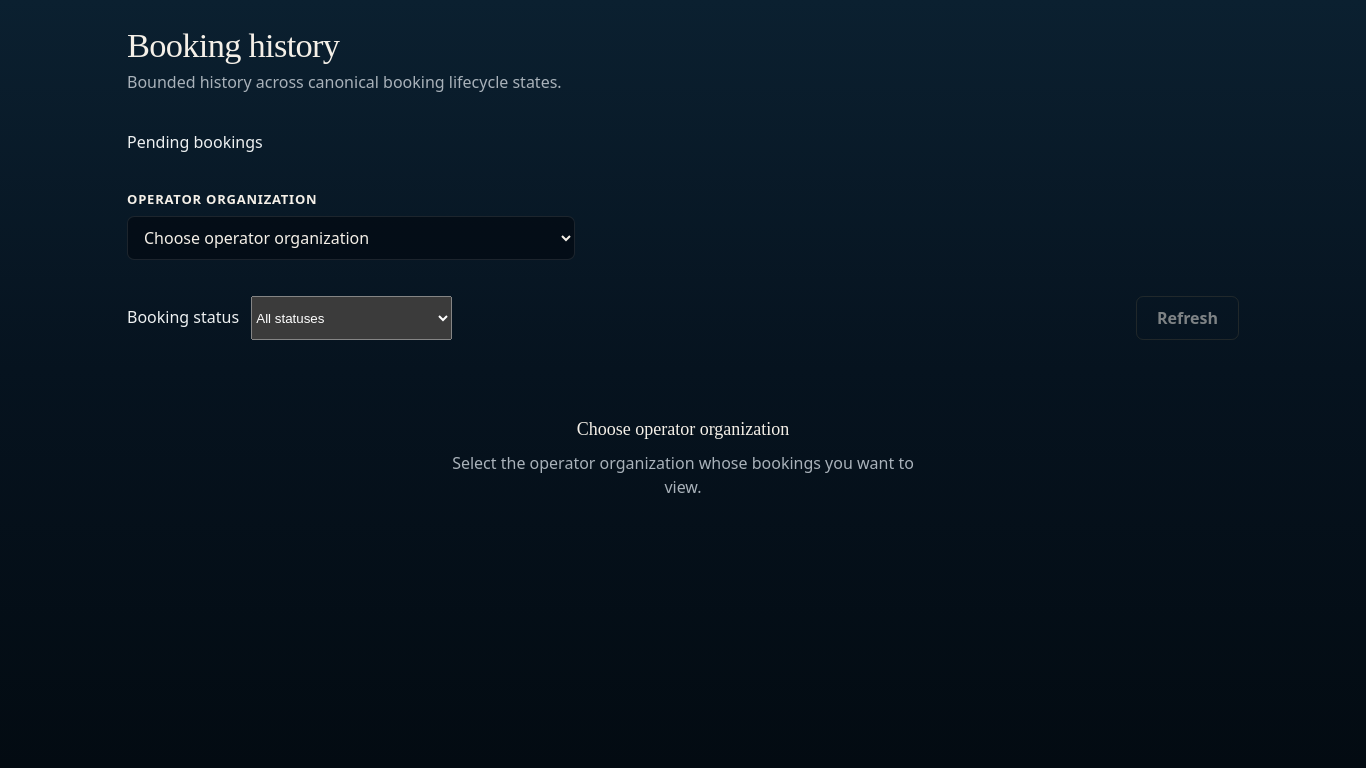
it: OperatorBookingHistory › keeps only the latest epoch across rapid A to B to A to B resolution
Select "Operator organization 1 — OPERATOR_ADMIN" in the dropdown labelled "Operator organization" at (351, 238), box [127, 216, 575, 260]
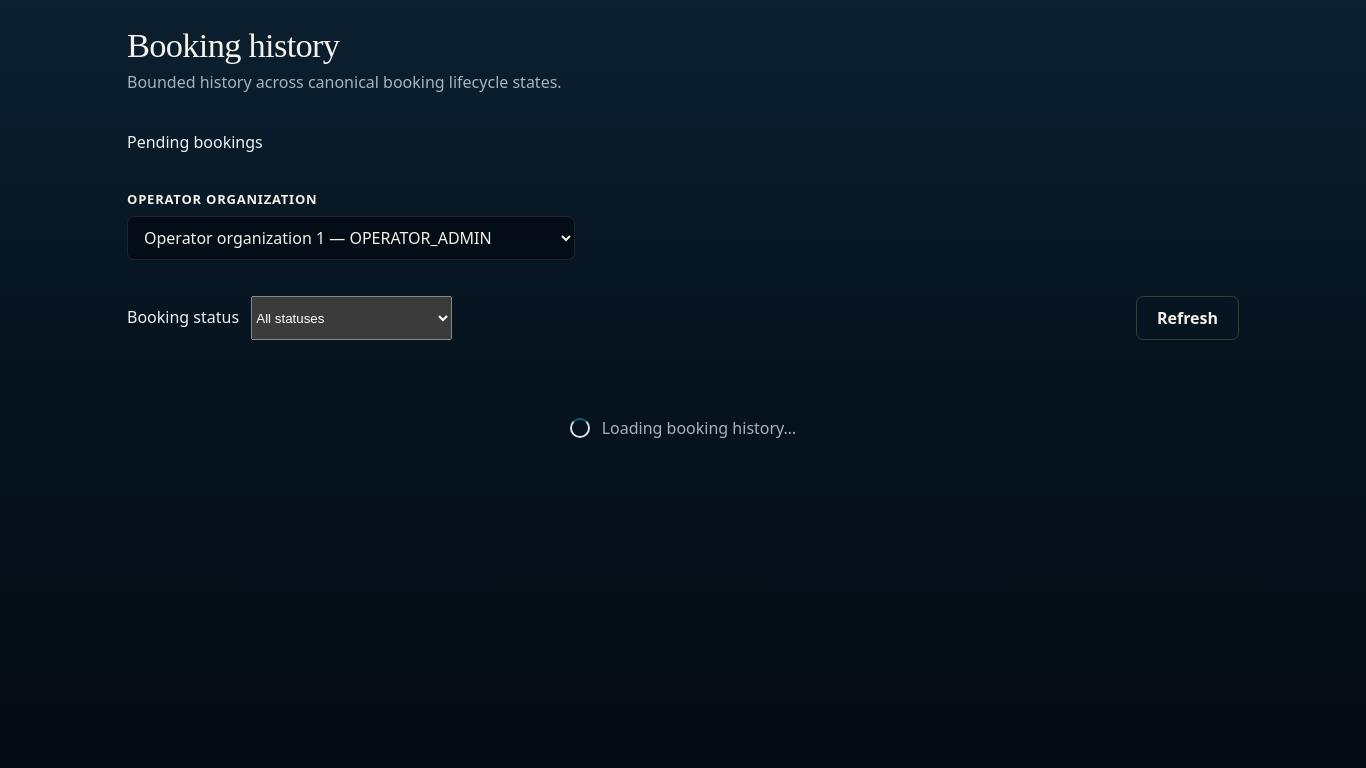
Select "Operator organization 2 — OPERATOR_SALES" in the dropdown labelled "Operator organization" at (351, 238), box [127, 216, 575, 260]
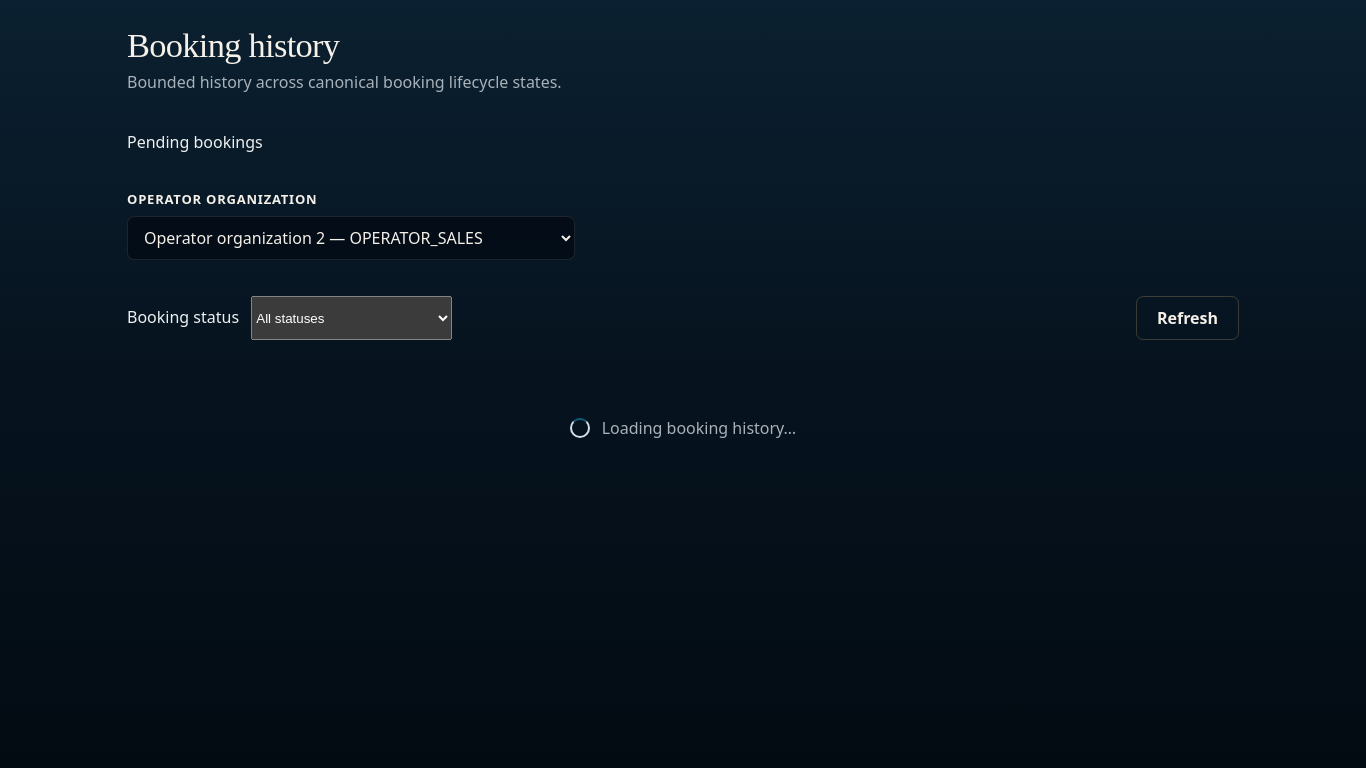
Select "Operator organization 1 — OPERATOR_ADMIN" in the dropdown labelled "Operator organization" at (351, 238), box [127, 216, 575, 260]
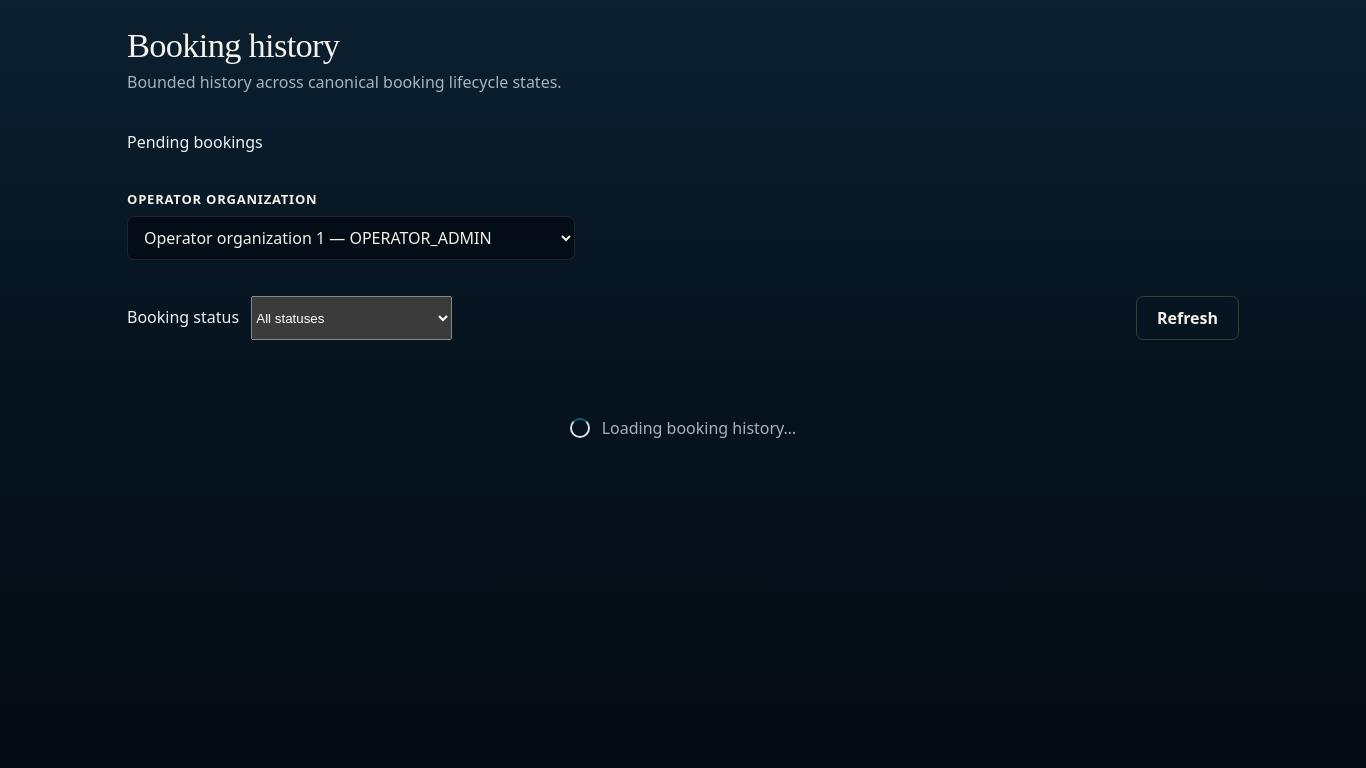
Select "Operator organization 2 — OPERATOR_SALES" in the dropdown labelled "Operator organization" at (351, 238), box [127, 216, 575, 260]
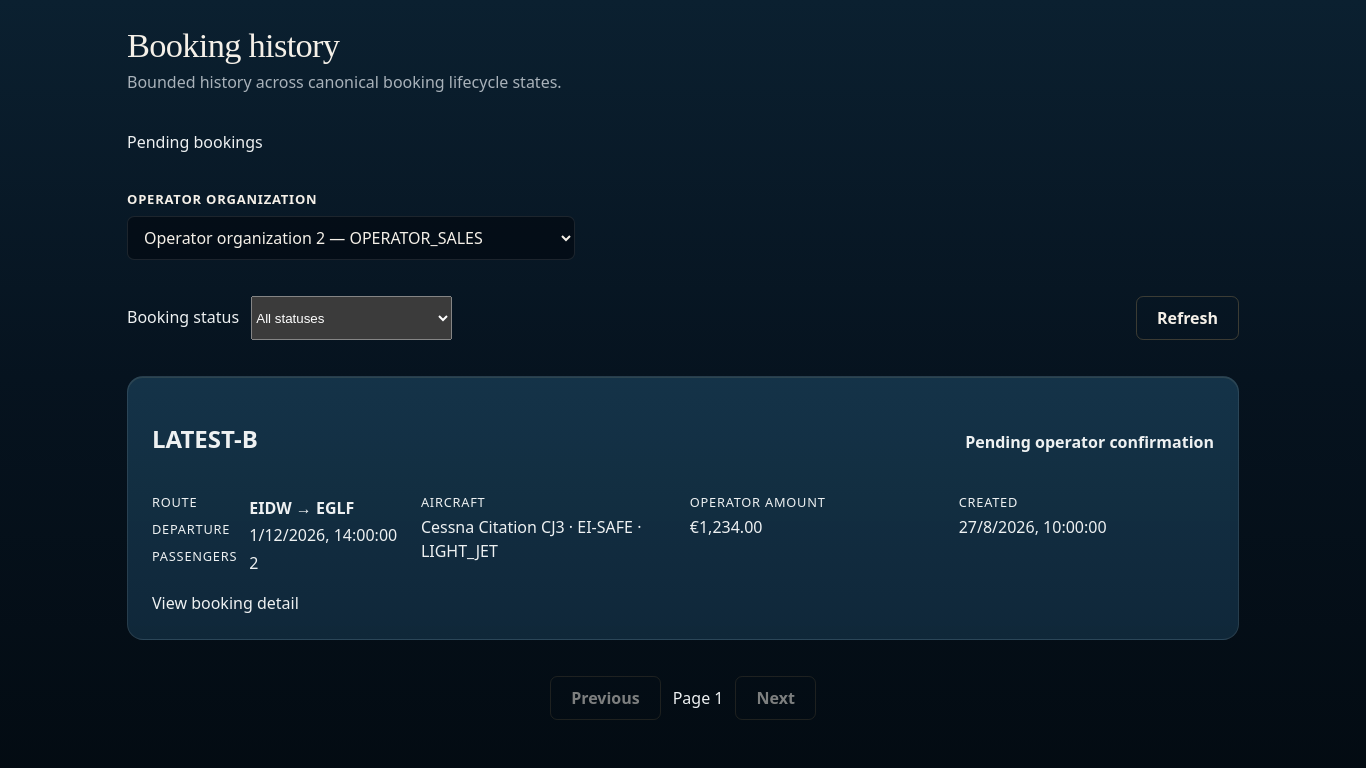
Result: the heading "LATEST-B" is shown at [152, 421, 258, 457]
